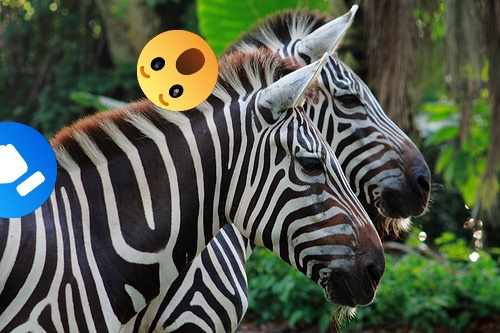like: (0, 122, 57, 218)
wow: (137, 30, 218, 111)
